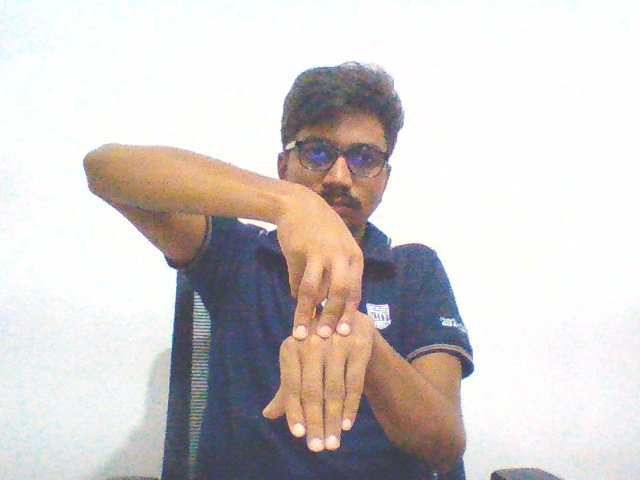papaya: (253, 173, 382, 458)
